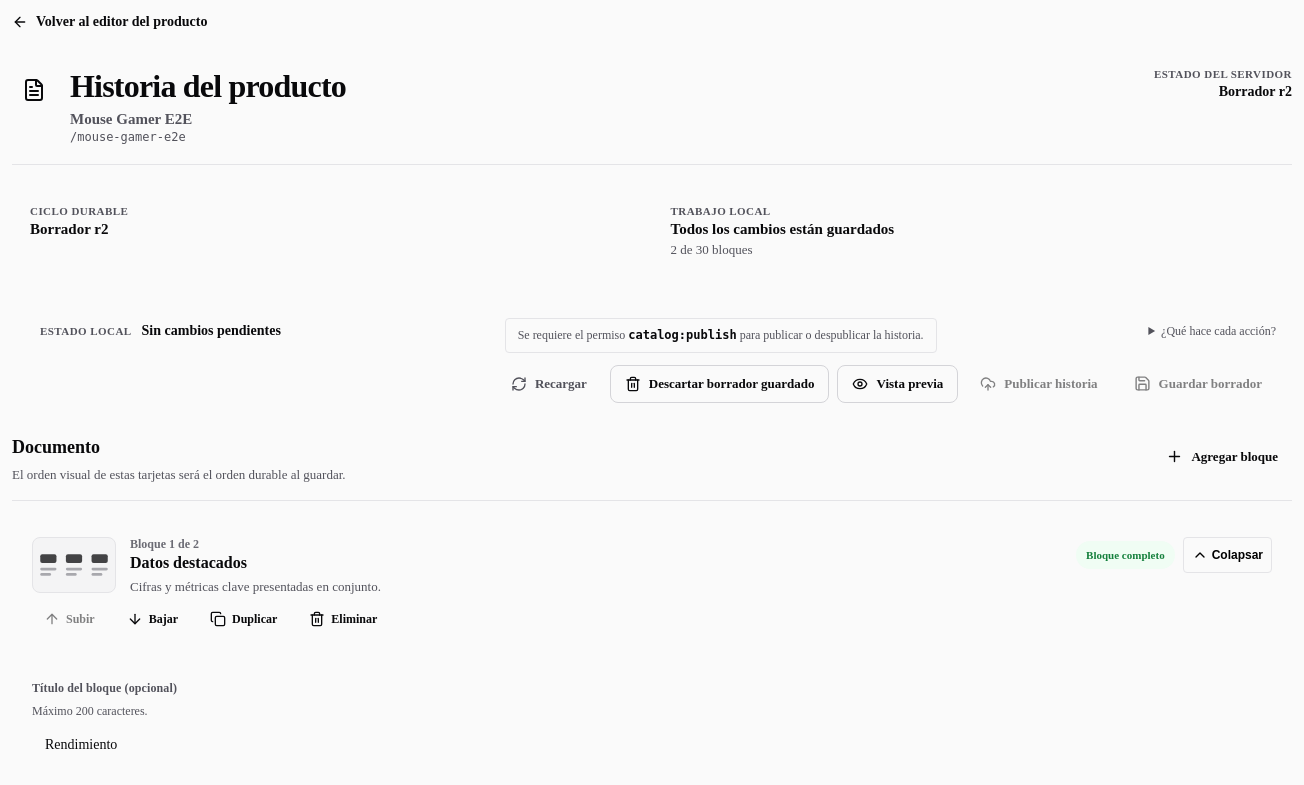
GP-026 CHK2 Story Builder component › preserves local work after a structured save failure
Click the button "Duplicar". click: coordinates (244, 619)
box: x1=198 y1=597 x2=289 y2=641
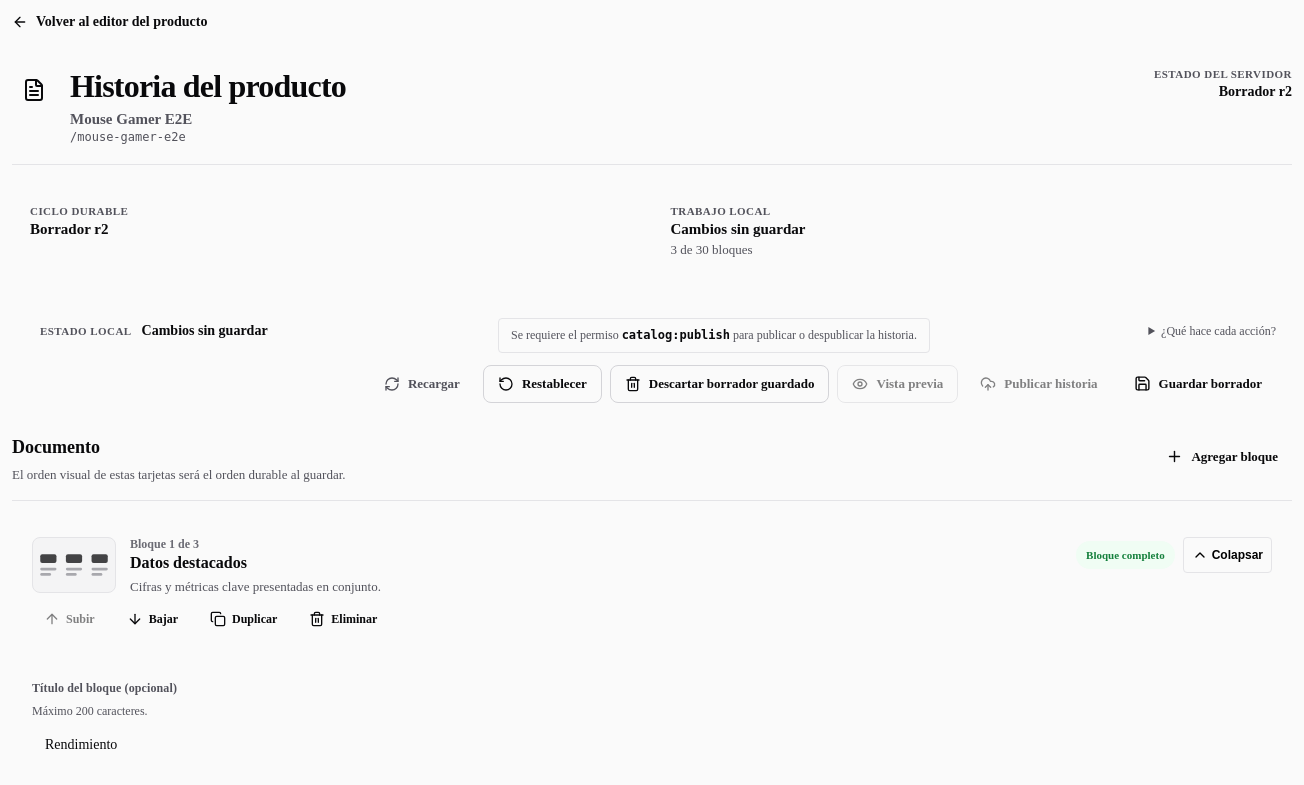
Click the button with test id "story-save-draft". click: coordinates (1198, 384)
box: x1=1120 y1=365 x2=1276 y2=403
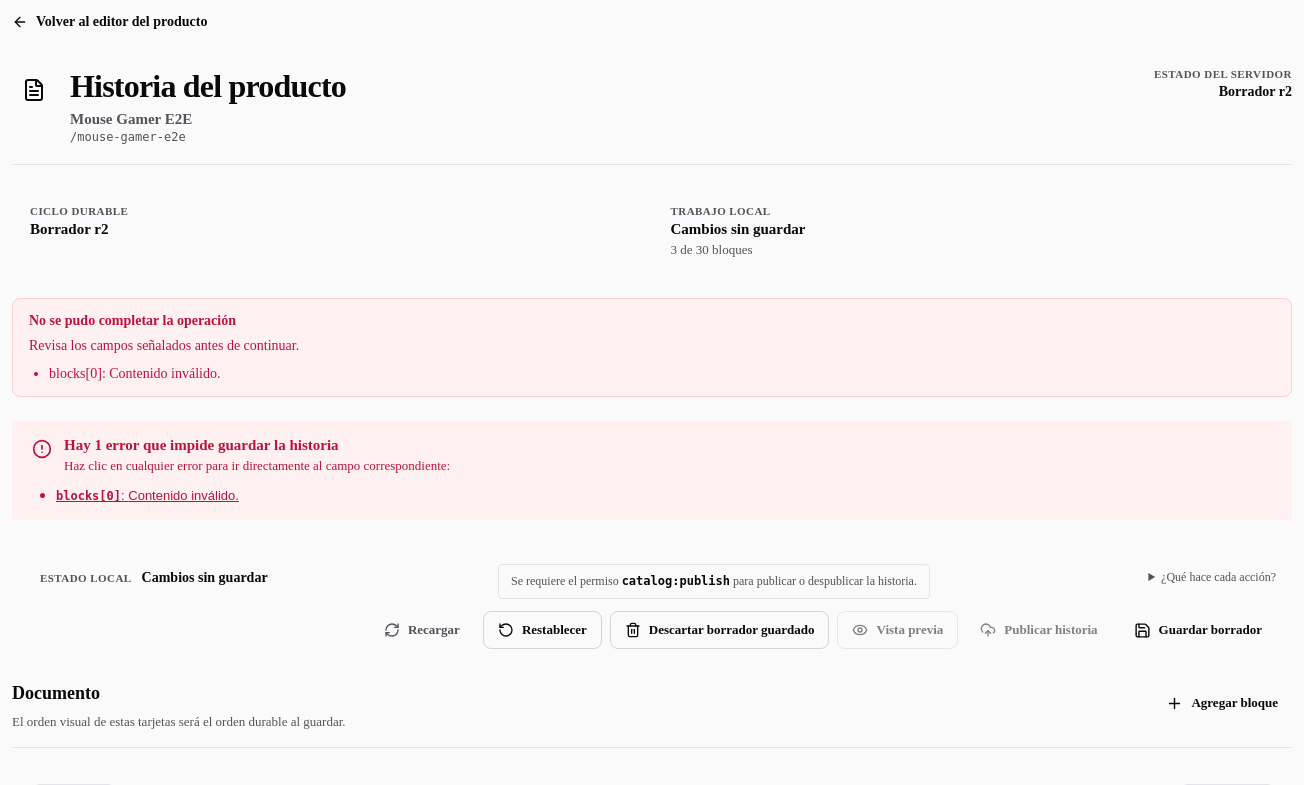
Expected: the text with test id "story-dirty-state" reads "Cambios sin guardar", x1=670 y1=221 x2=806 y2=237
Expected: the message with test id "story-error" is shown, x1=12 y1=298 x2=1292 y2=398
